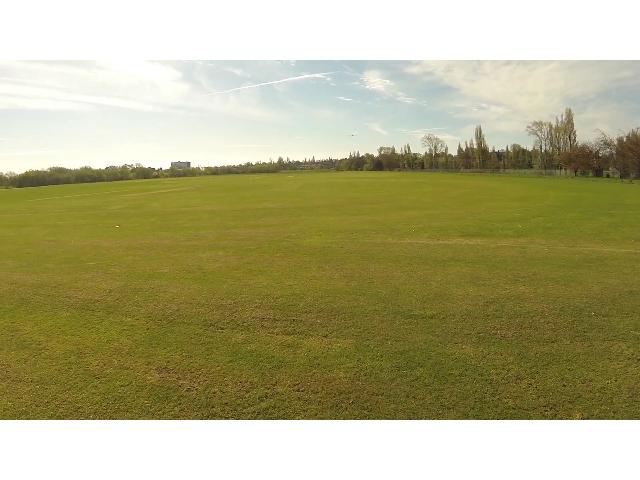Anti-Drone: (346, 131, 360, 139)
